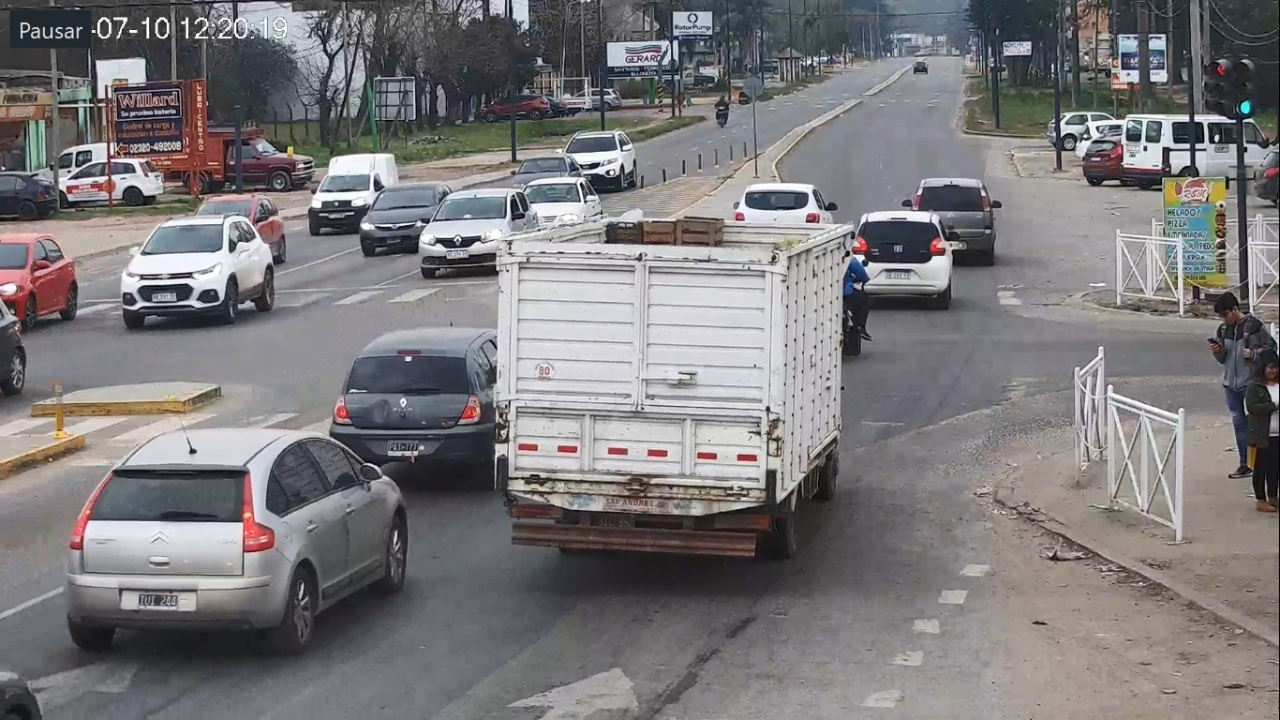car: (66, 429, 407, 649)
front car: (120, 215, 275, 329)
traffic light: (1234, 58, 1256, 117)
truck: (493, 223, 852, 556)
